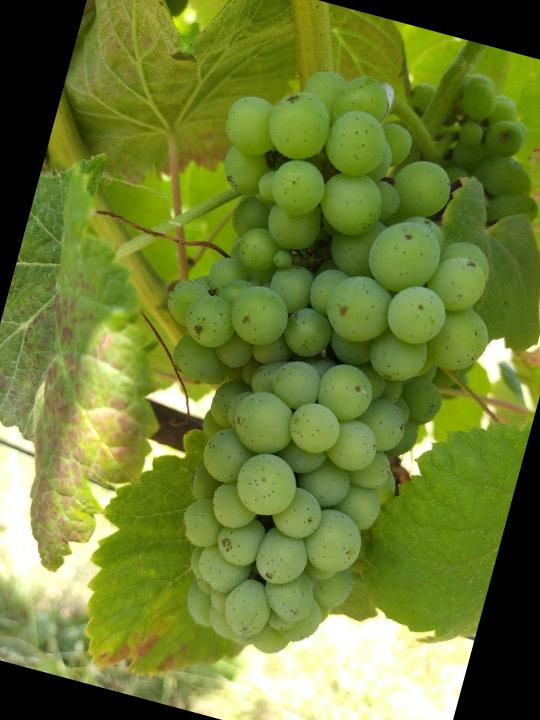grape: (79, 36, 540, 692)
